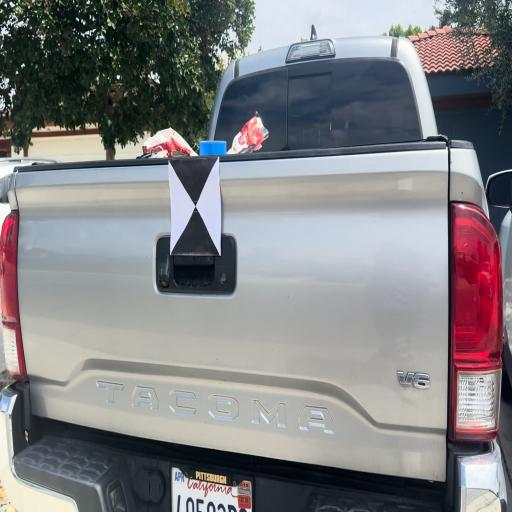target: (168, 160, 221, 254)
